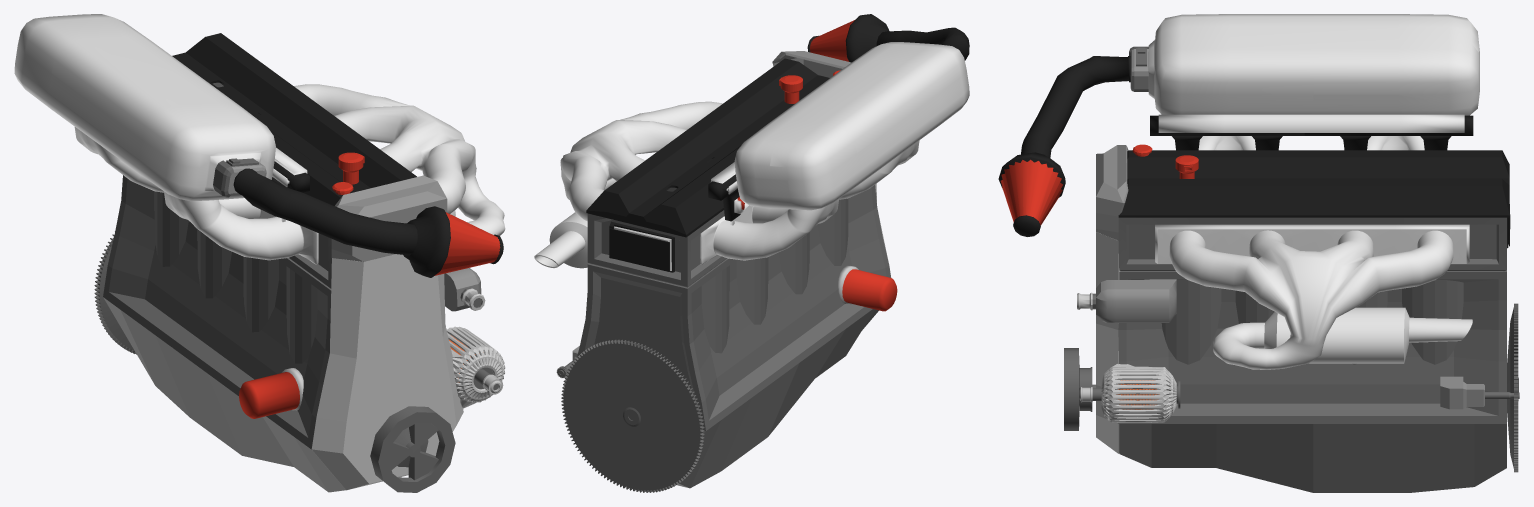
File: 4LFBX.fbx
3 renders of one model, left to right at view 1: azimuth 30°, elevation 25°; view 2: azimuth 150°, elevation 25°; view 3: azimuth 270°, elevation 25°, orthographic. The views are drawn at different scales.
Parts seen in each view (by area): view 1: ColetorDeAr, Bloco, capa da correia dentada, tambpa do motor, filtroDeAr, coletor escape, carter, Cylinder, capa da correia de cima, carcaa alternador, filtro de leo, VolanteDoMotor (+6 smaller); view 2: Bloco, ColetorDeAr, VolanteDoMotor, tambpa do motor, coletor escape, carter, cabeçote, filtroDeAr, mdulo eletronico, filtro de leo, trilho de injetores, capa da correia de cima (+1 smaller); view 3: Bloco, ColetorDeAr, coletor escape, tambpa do motor, carter, trilho de injetores, filtroDeAr, cabeçote, carcaa alternador, BOMBA agua, capa da correia dentada, capa da correia de cima (+5 smaller).
Part boxes in pixels (x1,y1,x2,y2): ColetorDeAr: (14, 14, 318, 264); Bloco: (103, 175, 445, 449); capa da correia dentada: (311, 254, 463, 490); tambpa do motor: (172, 33, 416, 205); filtroDeAr: (233, 168, 503, 277); coletor escape: (294, 84, 505, 235); carter: (103, 297, 345, 492); Cylinder: (370, 406, 455, 492); capa da correia de cima: (331, 175, 447, 261); carcaa alternador: (446, 326, 505, 408); filtro de leo: (239, 368, 303, 418); VolanteDoMotor: (94, 231, 136, 354); Bloco: (577, 185, 891, 430); ColetorDeAr: (700, 42, 969, 264); VolanteDoMotor: (561, 339, 704, 492); tambpa do motor: (586, 58, 840, 237); coletor escape: (534, 101, 722, 268); carter: (677, 309, 878, 488); cabeçote: (587, 187, 726, 287); filtroDeAr: (807, 14, 969, 62); mdulo eletronico: (609, 221, 674, 272); filtro de leo: (838, 265, 897, 311); trilho de injetores: (708, 162, 744, 225); capa da correia de cima: (772, 51, 851, 77); Bloco: (1118, 270, 1506, 423); ColetorDeAr: (1148, 14, 1479, 150); coletor escape: (1155, 224, 1472, 369); tambpa do motor: (1118, 144, 1509, 217); carter: (1119, 424, 1506, 492); trilho de injetores: (1150, 114, 1473, 150); filtroDeAr: (998, 56, 1130, 236); cabeçote: (1118, 217, 1506, 270); carcaa alternador: (1101, 364, 1176, 422); BOMBA agua: (1096, 279, 1176, 322); capa da correia dentada: (1096, 232, 1120, 453); capa da correia de cima: (1096, 145, 1128, 240).
Size of the model in its own units: 146 by 151 by 187.
